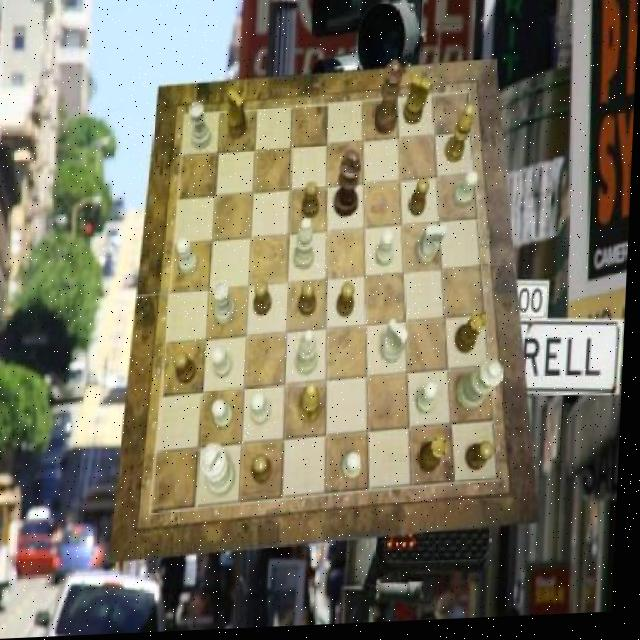bishop: (446, 108, 475, 166), (301, 385, 325, 427)
black-bishop: (336, 153, 365, 222)
black-king: (406, 79, 434, 129), (227, 91, 250, 143)
black-knight: (412, 182, 433, 220), (177, 354, 201, 387), (471, 447, 499, 475), (304, 184, 323, 221), (339, 286, 358, 322), (256, 282, 275, 317), (302, 284, 321, 319), (257, 458, 278, 487)
black-pawn: (375, 63, 404, 140)
black-queen: (458, 316, 489, 359), (421, 439, 453, 477)
black-rook: (296, 221, 318, 274), (299, 333, 323, 379)
white-bishop: (204, 445, 241, 500)
white-king: (384, 322, 412, 367), (418, 230, 449, 270)
white-knight: (455, 175, 480, 212), (178, 239, 202, 277), (420, 385, 442, 419), (214, 348, 236, 381), (254, 395, 275, 428), (378, 234, 397, 270), (215, 402, 237, 430), (346, 456, 367, 484)
white-pawn: (460, 363, 508, 416)
white-queen: (188, 105, 214, 153), (216, 283, 240, 328)
